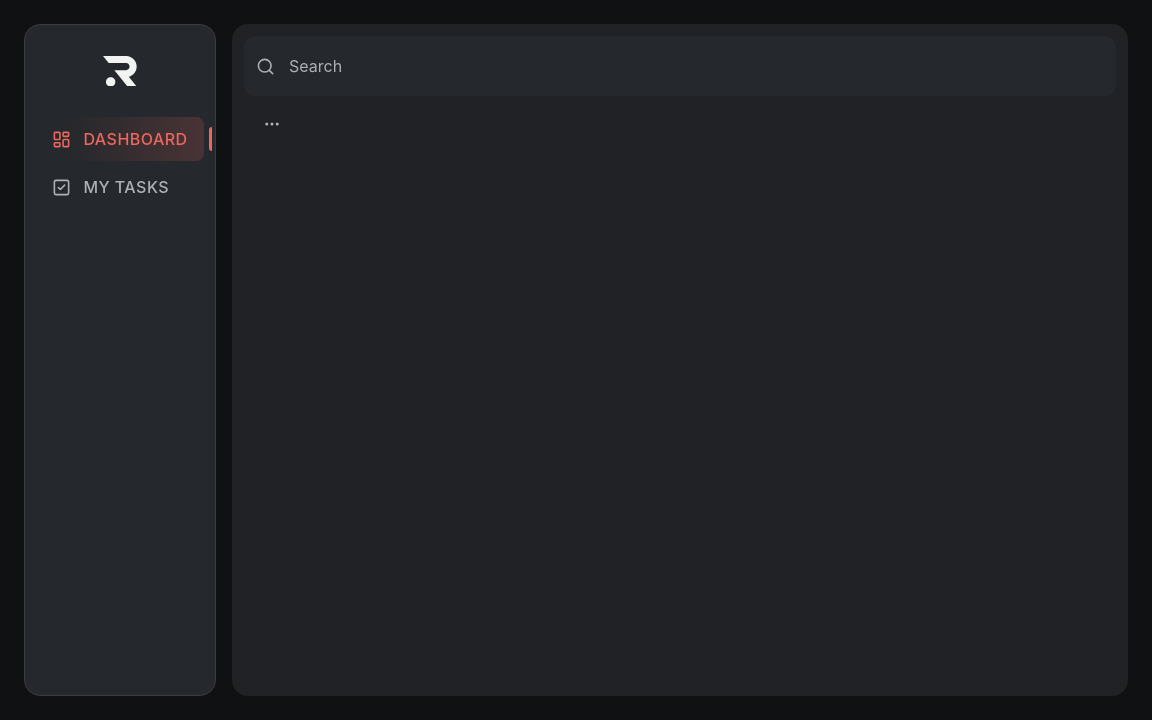
Test: AppLayout task editing › clears an assignee by sending an explicit null
The image size is (1152, 720).
Step 1. Click the button named "More options for Ship the mutation" → (272, 124), box [256,108,288,140]
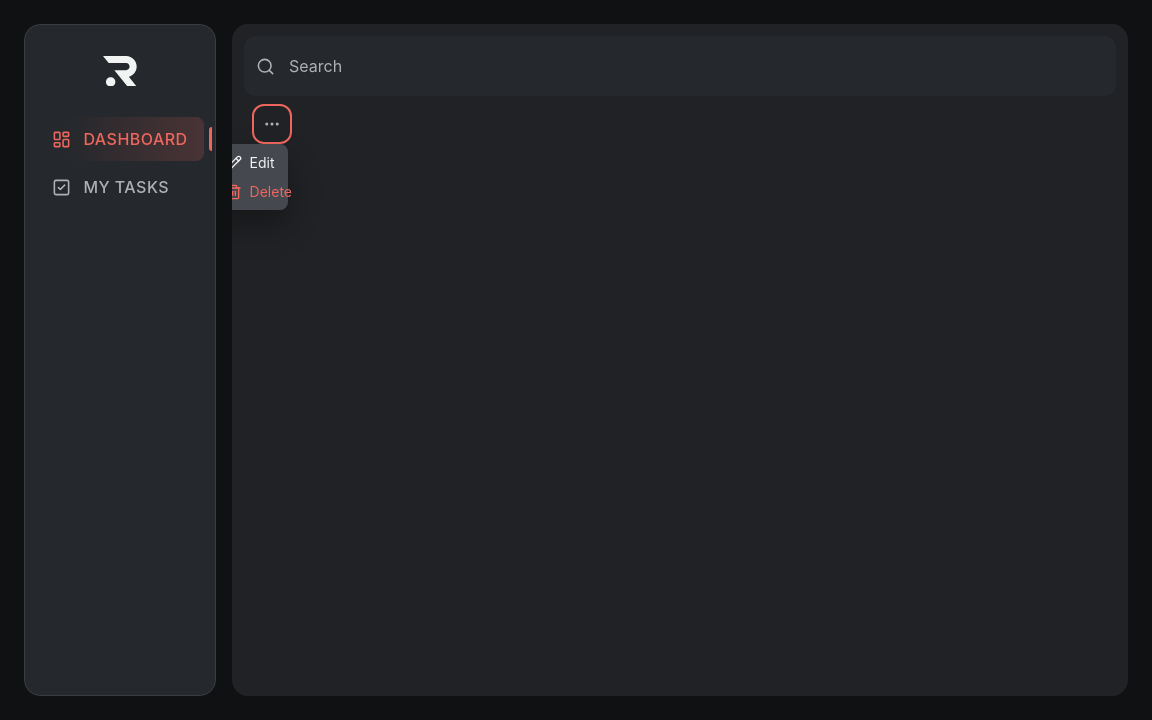
Step 2. Click the menu item "Edit" → (251, 162), box [218,148,284,177]
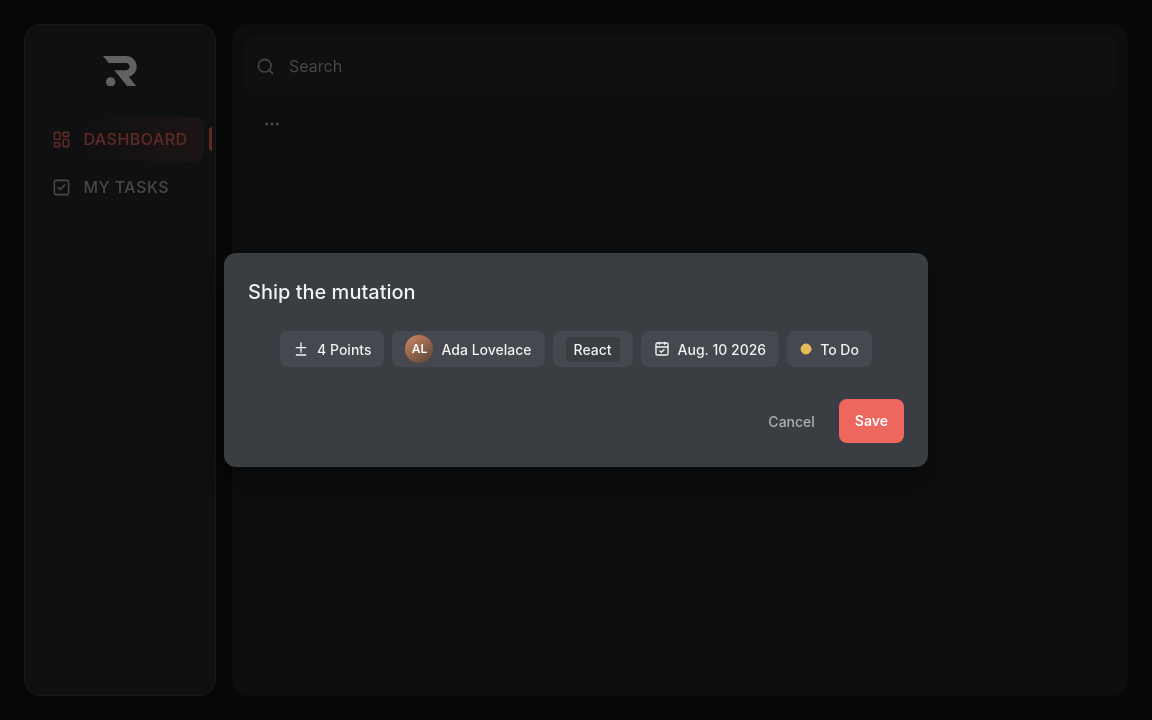
Step 3. Click the button with aria-label "Assignee: Ada Lovelace" → (468, 349), box [392,331,544,367]
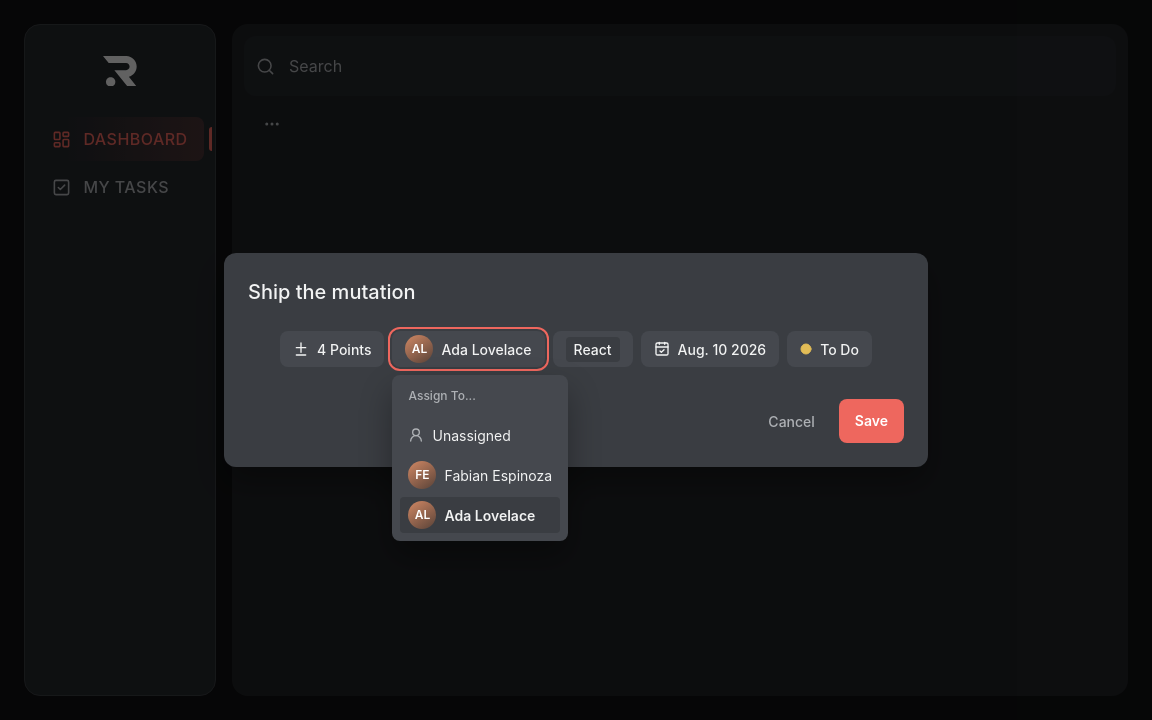
Step 4. Click the button "Unassigned" → (480, 435), box [400,417,560,453]
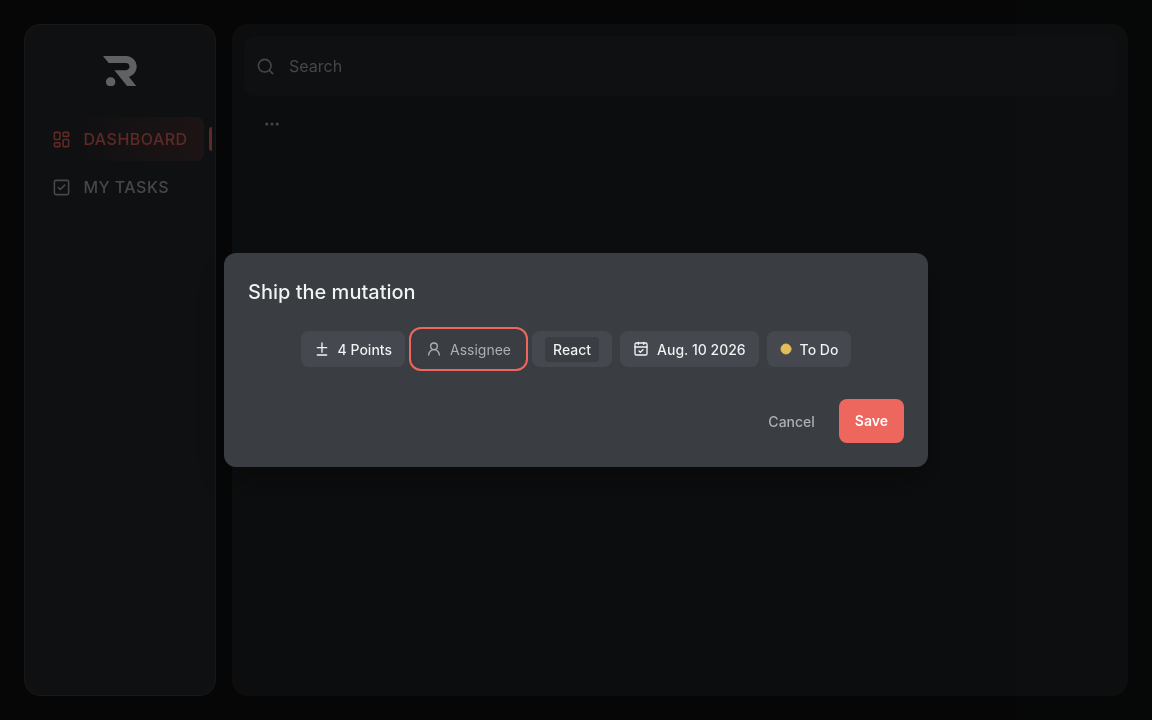
Step 5. Click the button "Save" → (871, 421), box [839,399,904,443]
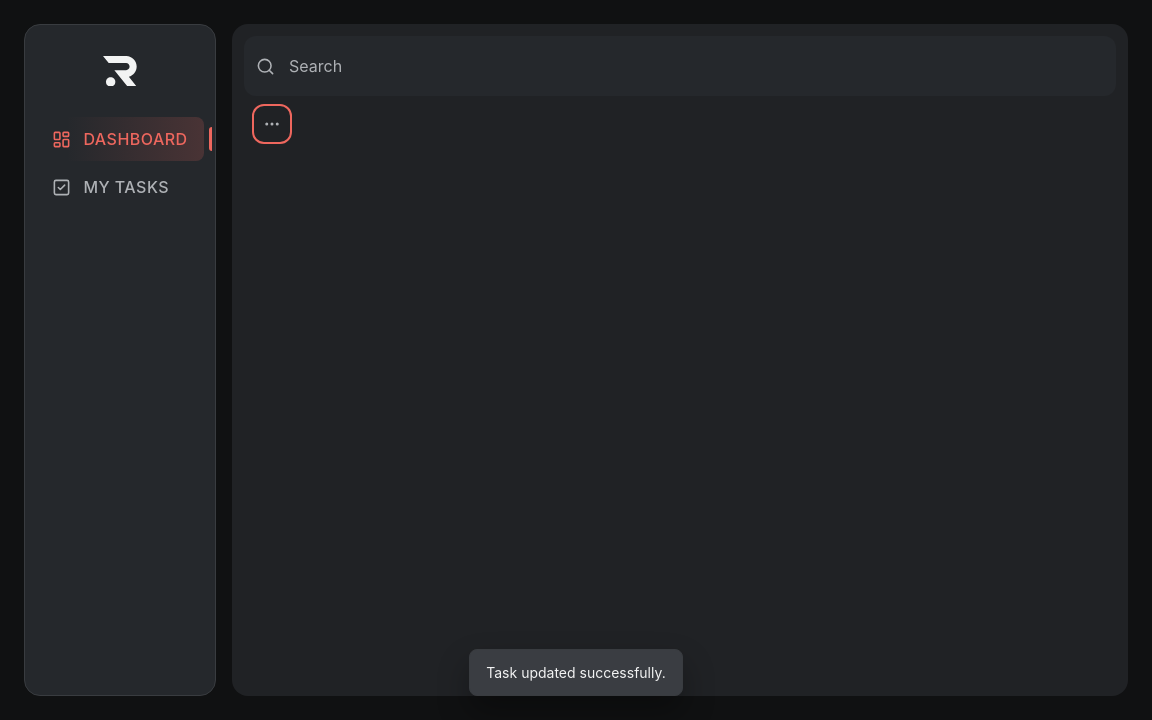
expect the dialog is gone: met
